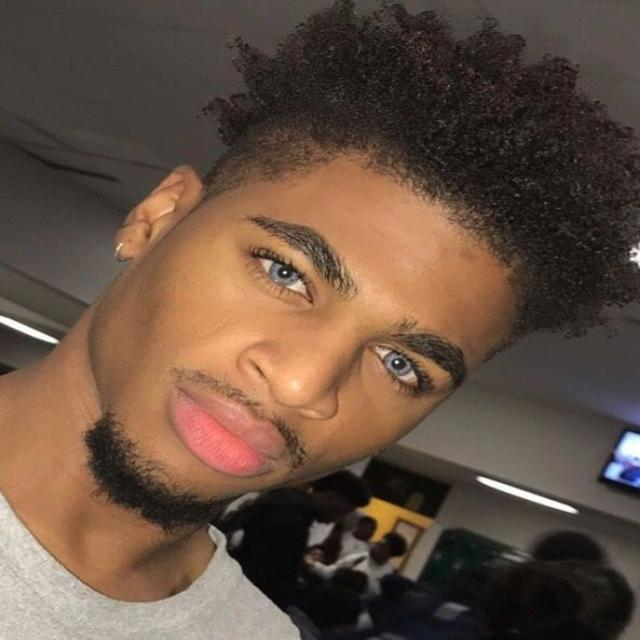earlobe: (113, 221, 151, 263)
eye: (247, 252, 315, 302), (363, 341, 429, 392)
nose: (215, 371, 328, 433)
wholeear: (113, 164, 205, 263)
